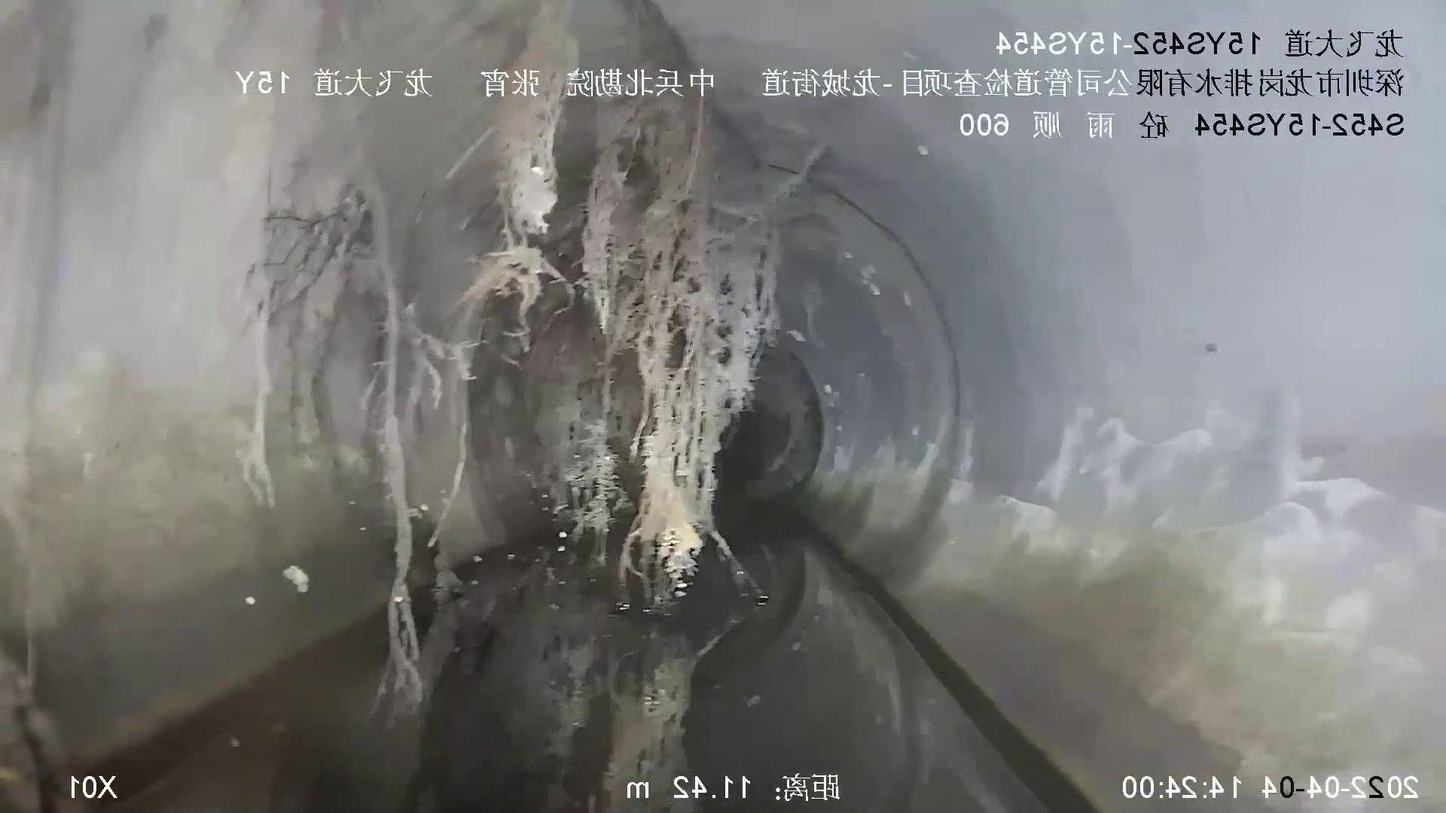SG: (261, 0, 825, 658)
